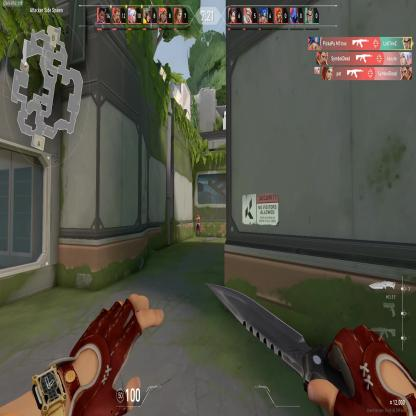enemy: (195, 211, 201, 237)
